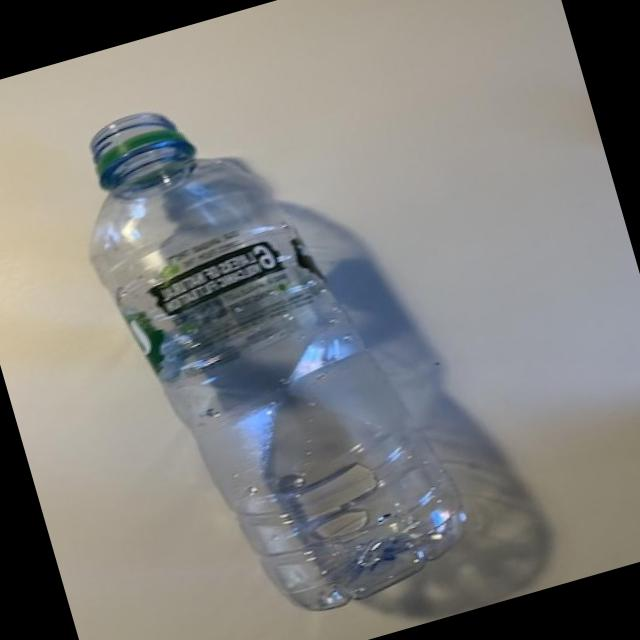BotolPlastik: (54, 49, 464, 640)
